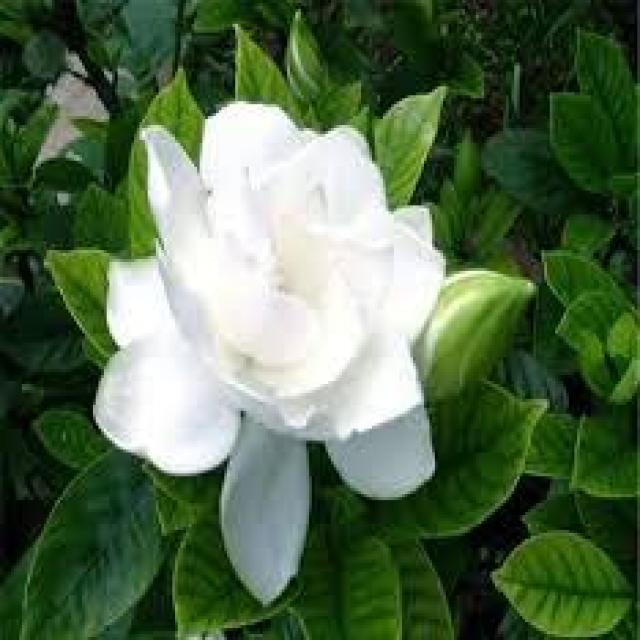organic waste: (85, 107, 476, 578)
